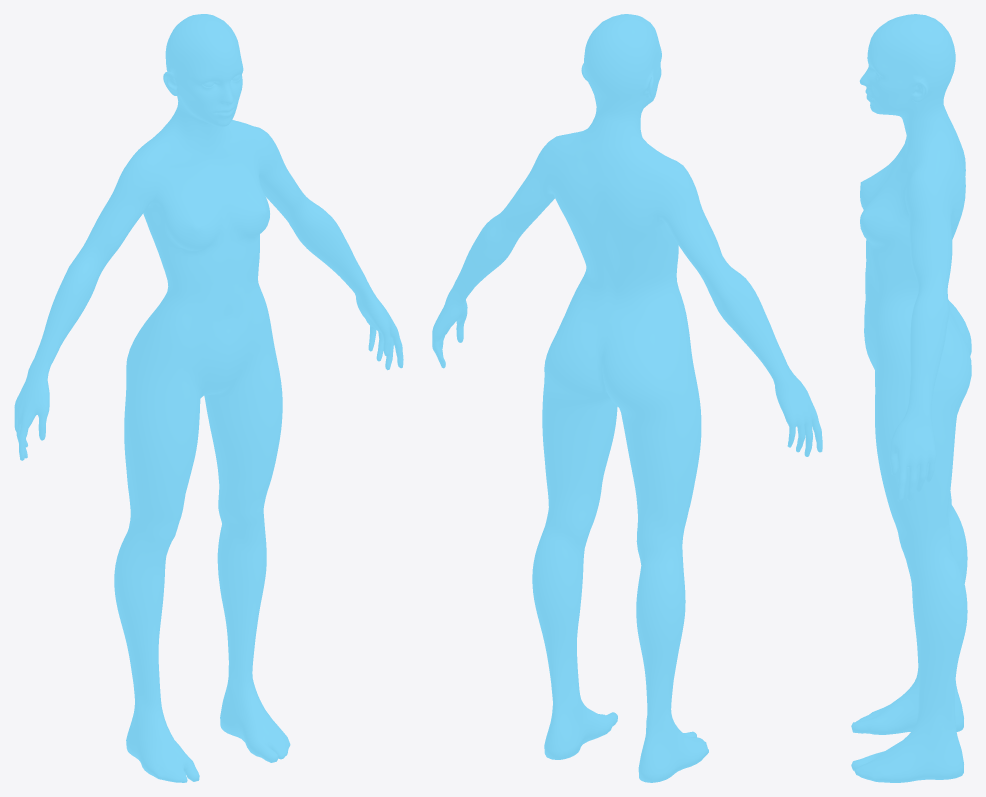
File: female-hologram-web-v1.glb
3 renders of one model, left to right at view 1: azimuth 30°, elevation 25°; view 2: azimuth 150°, elevation 25°; view 3: azimuth 270°, elevation 25°, orthographic.
Visible parts, largest first — view 1: FemaleHologram; view 2: FemaleHologram; view 3: FemaleHologram.
Part boxes in pixels (x1,y1,x2,y2): FemaleHologram: [14, 14, 403, 782]; FemaleHologram: [432, 14, 822, 782]; FemaleHologram: [851, 14, 971, 782].
Bounding box in the file's own units: 0.9276 × 1.69 × 0.2518.
